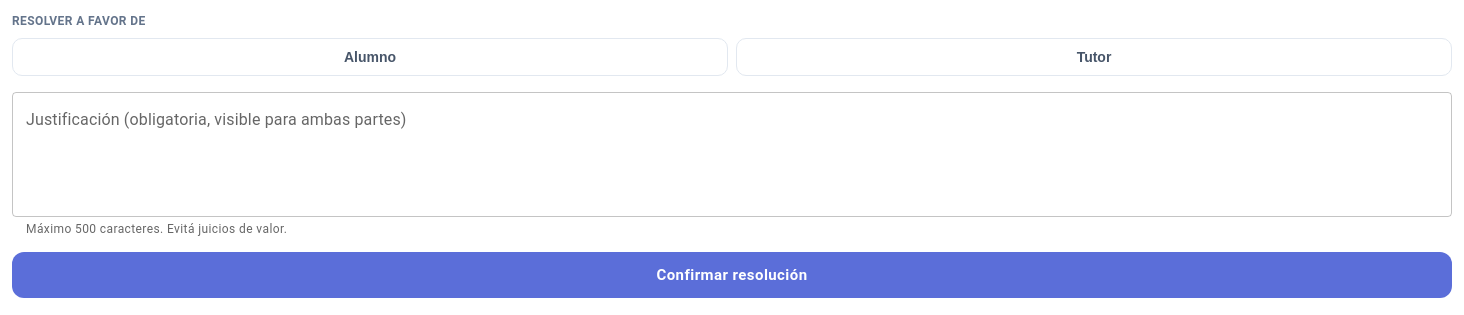
it: ClaimResolutionForm › no abre la confirmación si la justificación está vacía
The width and height of the screenshot is (1464, 315).
Click the radio button labelled "Alumno" at [370, 57], box [12,38,728,76]
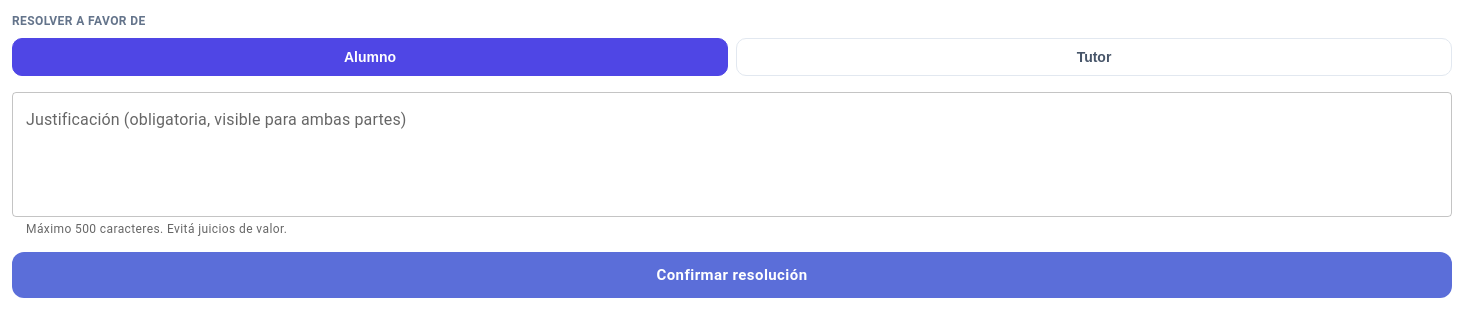
Click the button "Confirmar resolución" at [732, 275], box [12,252,1452,298]
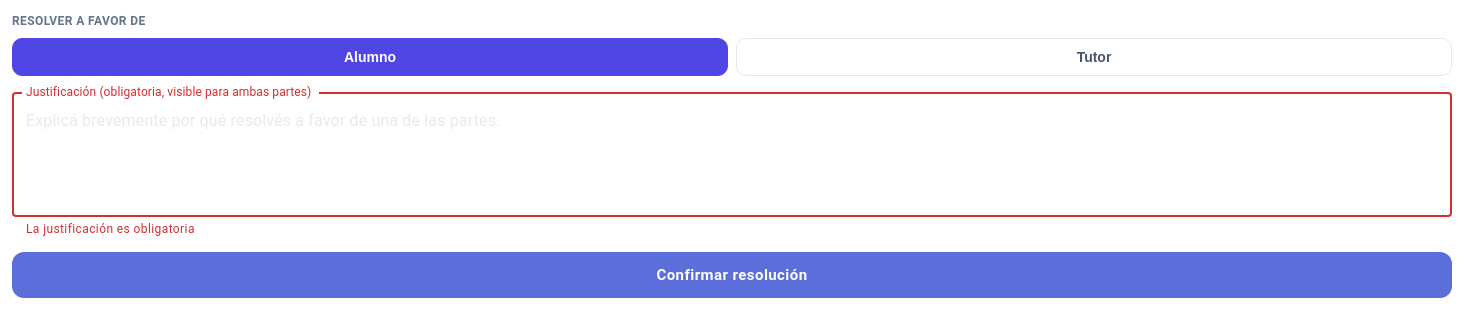
Expected: the text "La justificación es obligatoria" is shown, [26,222,195,236]
